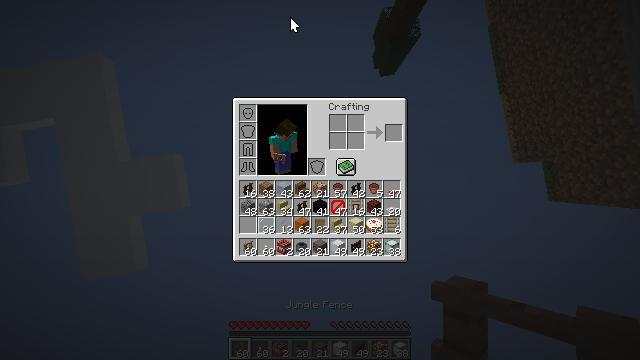cursor: (17, 290, 33, 300)
